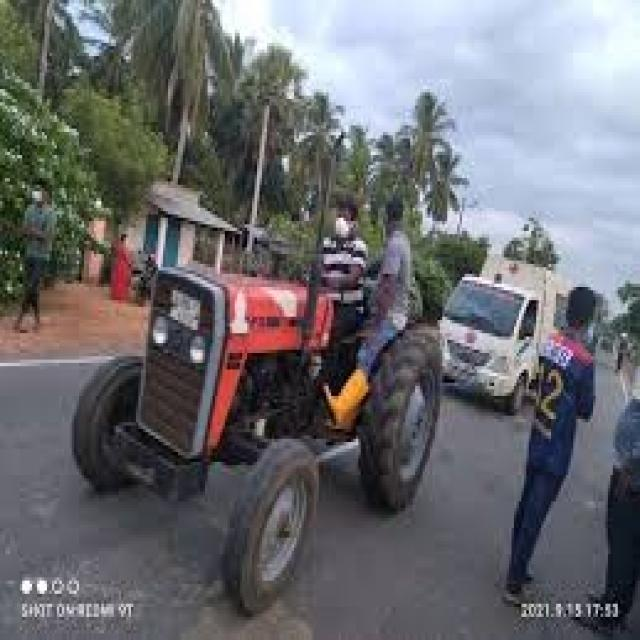person: (504, 287, 593, 604), (521, 399, 638, 620), (324, 198, 408, 429), (321, 205, 366, 336), (15, 188, 52, 330), (111, 234, 128, 300)
tractor: (72, 264, 437, 610)
